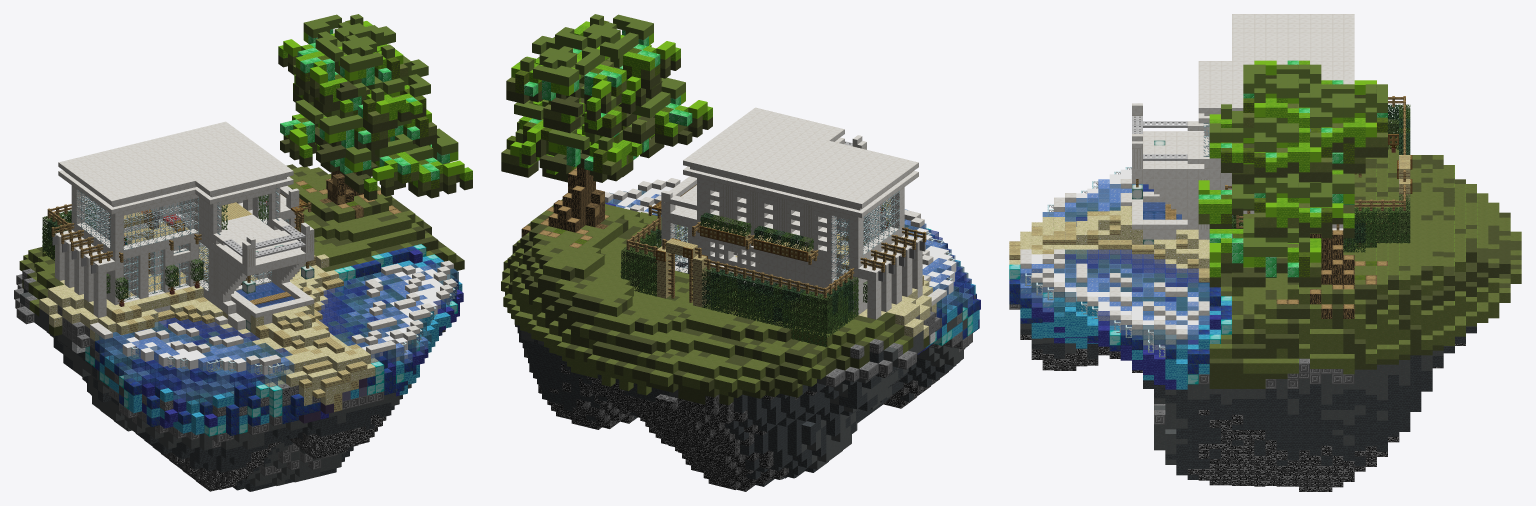
The picture shows the model from 3 angles, left to right: view 1: azimuth 30°, elevation 25°; view 2: azimuth 150°, elevation 25°; view 3: azimuth 270°, elevation 25°; orthographic projection. The views are drawn at different scales.
Parts seen in each view (by area): view 1: minecraft:glass; view 2: minecraft:glass; view 3: minecraft:glass.
Part boxes in pixels (left/top/right/bottom): minecraft:glass: left=14, top=14, right=472, bottom=491; minecraft:glass: left=501, top=14, right=980, bottom=491; minecraft:glass: left=1009, top=14, right=1521, bottom=491.
Bounding box in the file's own units: 47 × 46 × 46.
74 materials, 74 textured.
